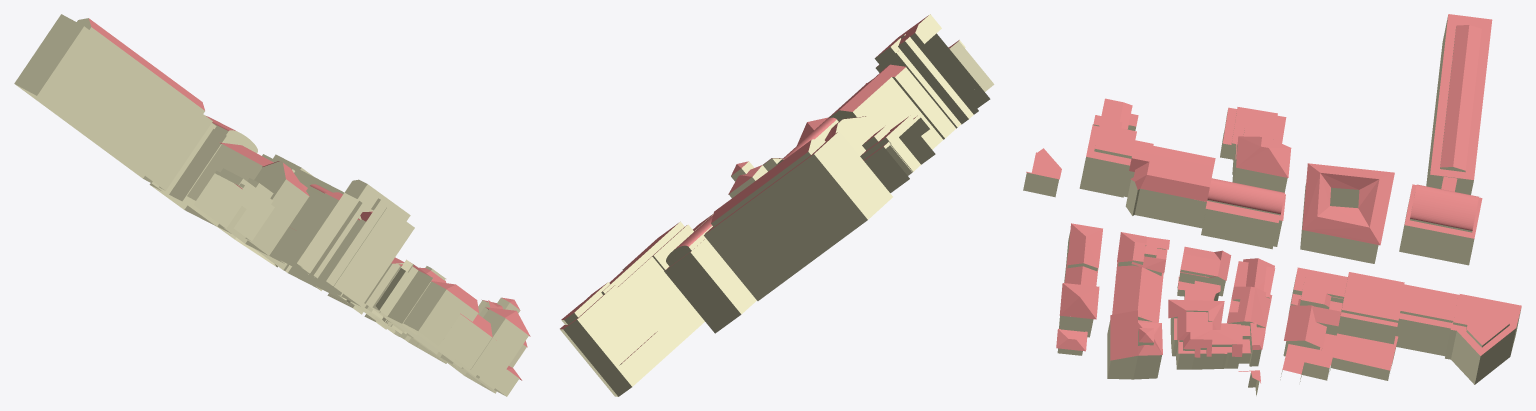
Rendered from tile_006.glb.
3 renders of one model, left to right at view 1: azimuth 30°, elevation 25°; view 2: azimuth 150°, elevation 25°; view 3: azimuth 270°, elevation 25°, orthographic. The views are drawn at different scales.
Visible parts, largest first — view 1: Batched_Building_ID_90A5023E-CA52-470E-A7B5-20AA51C054F5, Batched_Building_ID_855966CB-AA97-45C2-AEF0-ABAF2D3B0767; view 2: Batched_Building_ID_90A5023E-CA52-470E-A7B5-20AA51C054F5, Batched_Building_ID_855966CB-AA97-45C2-AEF0-ABAF2D3B0767; view 3: Batched_Building_ID_855966CB-AA97-45C2-AEF0-ABAF2D3B0767, Batched_Building_ID_90A5023E-CA52-470E-A7B5-20AA51C054F5.
Part boxes in pixels (x1,y1,x2,y2): Batched_Building_ID_90A5023E-CA52-470E-A7B5-20AA51C054F5: [14, 14, 528, 396]; Batched_Building_ID_855966CB-AA97-45C2-AEF0-ABAF2D3B0767: [89, 18, 530, 380]; Batched_Building_ID_90A5023E-CA52-470E-A7B5-20AA51C054F5: [560, 14, 994, 396]; Batched_Building_ID_855966CB-AA97-45C2-AEF0-ABAF2D3B0767: [560, 15, 959, 364]; Batched_Building_ID_855966CB-AA97-45C2-AEF0-ABAF2D3B0767: [1026, 14, 1521, 383]; Batched_Building_ID_90A5023E-CA52-470E-A7B5-20AA51C054F5: [1023, 15, 1520, 395].
Bounding box in the file's own units: 124 × 112 × 182.
